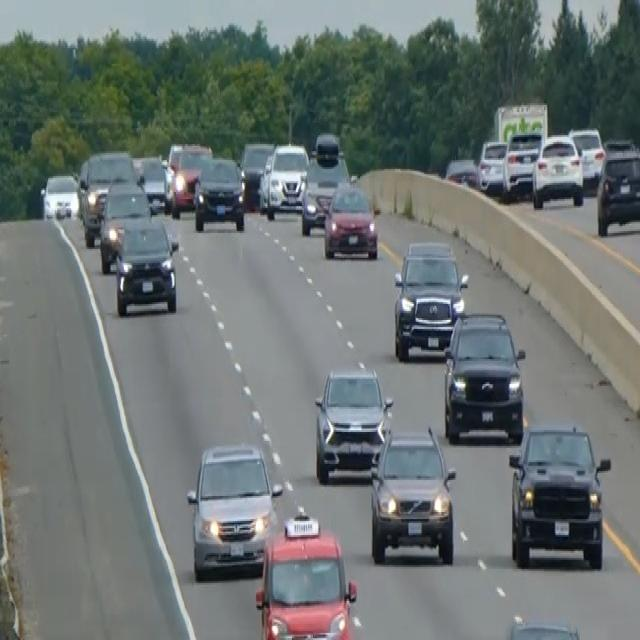car: (507, 420, 611, 570), (185, 439, 282, 580), (254, 512, 357, 638), (368, 423, 457, 565), (442, 310, 526, 444), (313, 362, 393, 483), (392, 238, 468, 361), (114, 215, 179, 317), (77, 150, 137, 246), (97, 178, 152, 274), (323, 178, 378, 260), (193, 153, 246, 231), (531, 132, 584, 208), (595, 146, 639, 236), (266, 140, 309, 218), (169, 141, 212, 215), (502, 128, 542, 199), (239, 139, 273, 208), (133, 153, 172, 213), (568, 125, 605, 187), (499, 614, 590, 638), (39, 170, 79, 220), (477, 137, 507, 194), (444, 154, 479, 188), (256, 150, 275, 212), (165, 140, 184, 185)
jeep: (299, 130, 351, 234)
